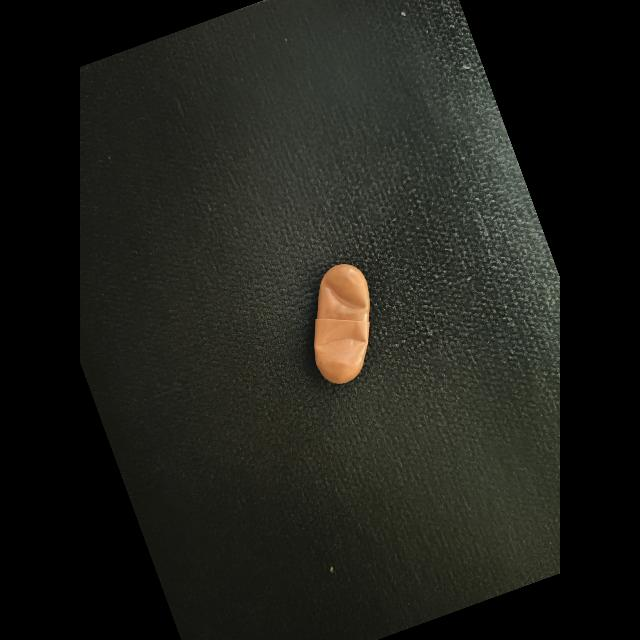Defective Capsule: (314, 322, 367, 367), (322, 278, 368, 312)
